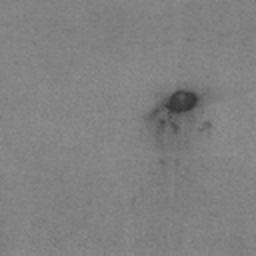Iron sheet ash: (163, 90, 200, 115), (169, 119, 181, 136), (152, 108, 161, 116)
